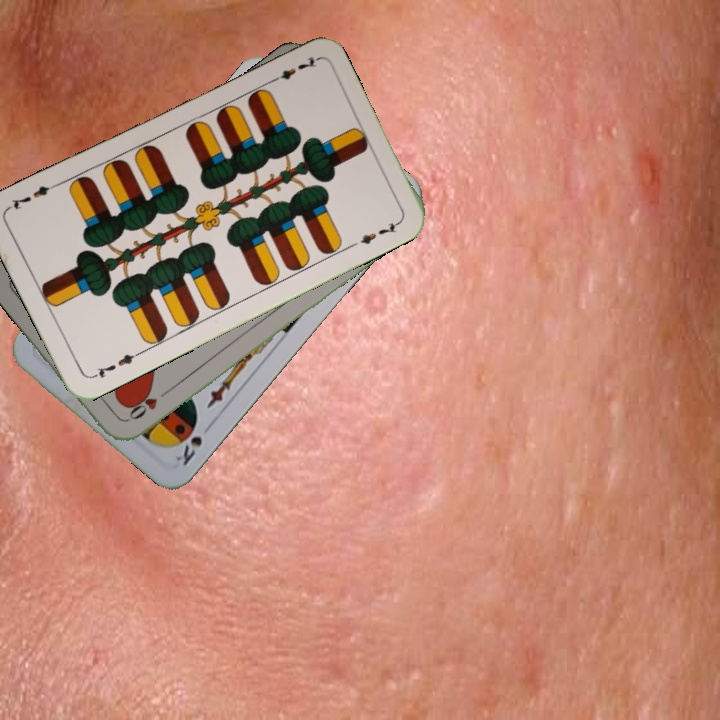E7: (264, 52, 320, 86), (88, 348, 143, 381)
HO: (121, 385, 173, 425)
SK: (171, 431, 205, 469)
